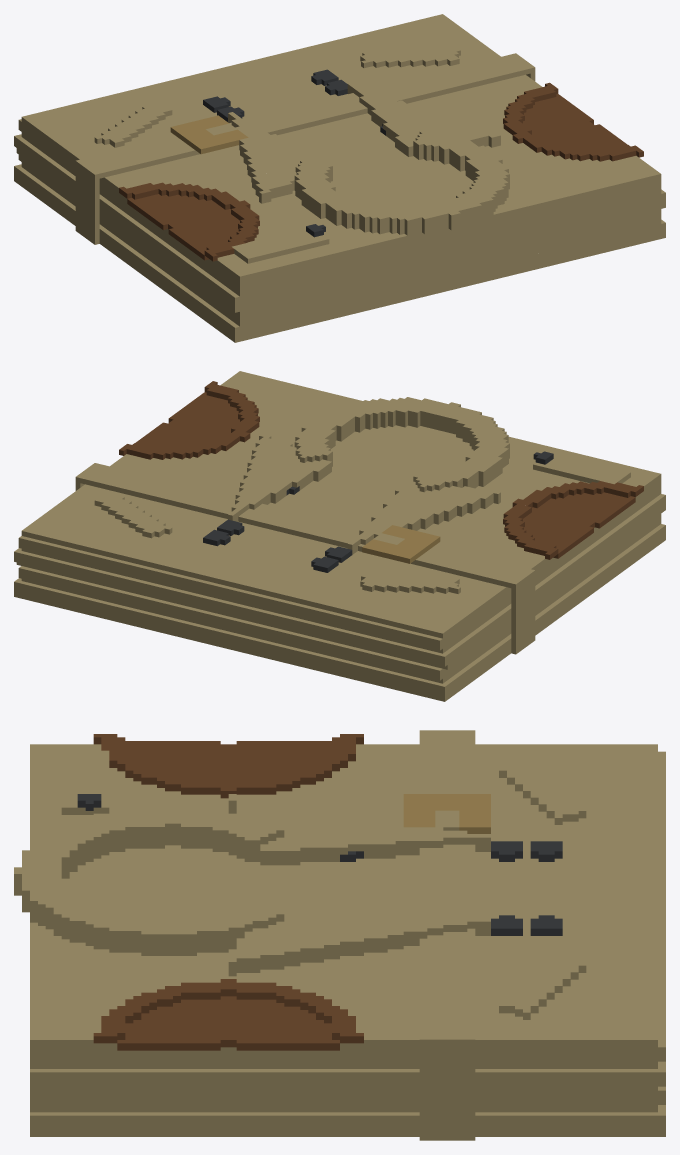
File: sleeveless_trenchcoat.glb
3 renders of one model, top to bottom at view 1: azimuth 30°, elevation 25°; view 2: azimuth 150°, elevation 25°; view 3: azimuth 270°, elevation 25°, orthographic. The views are drawn at different scales.
Visible parts, largest first — view 1: sleeveless_trenchcoat:compound; view 2: sleeveless_trenchcoat:compound; view 3: sleeveless_trenchcoat:compound.
Boxes of the visible parts, box(x1,y1,x2,y2) form: sleeveless_trenchcoat:compound: box(14, 14, 665, 342); sleeveless_trenchcoat:compound: box(14, 371, 665, 701); sleeveless_trenchcoat:compound: box(14, 730, 665, 1140).
Bounding box in the file's own units: 0.368 × 0.064 × 0.328.
